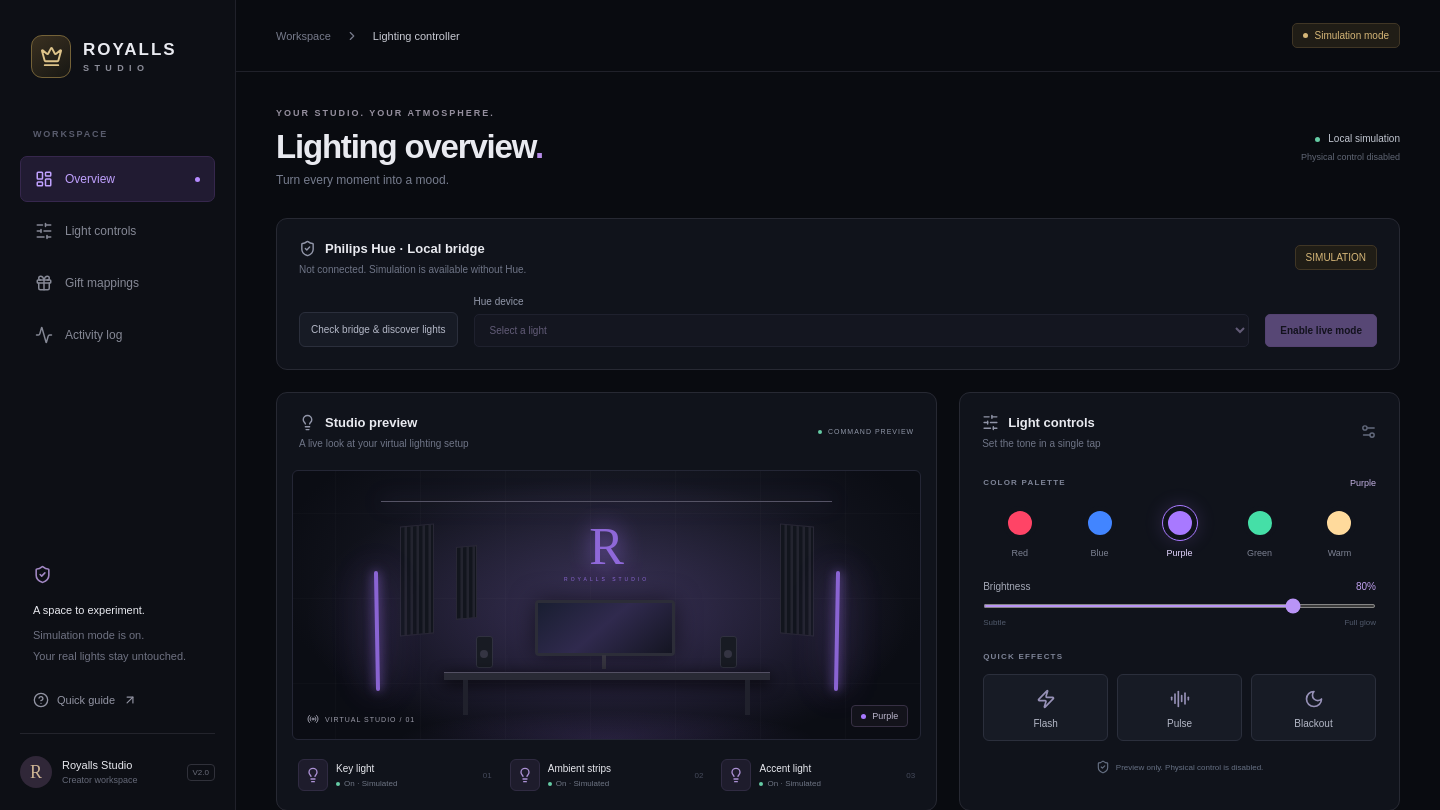
Hue mode safety (mock backend) › reports discovery failure without enabling physical control
Click the button "Check bridge & discover lights" at (378, 330), box [299,312,458,347]
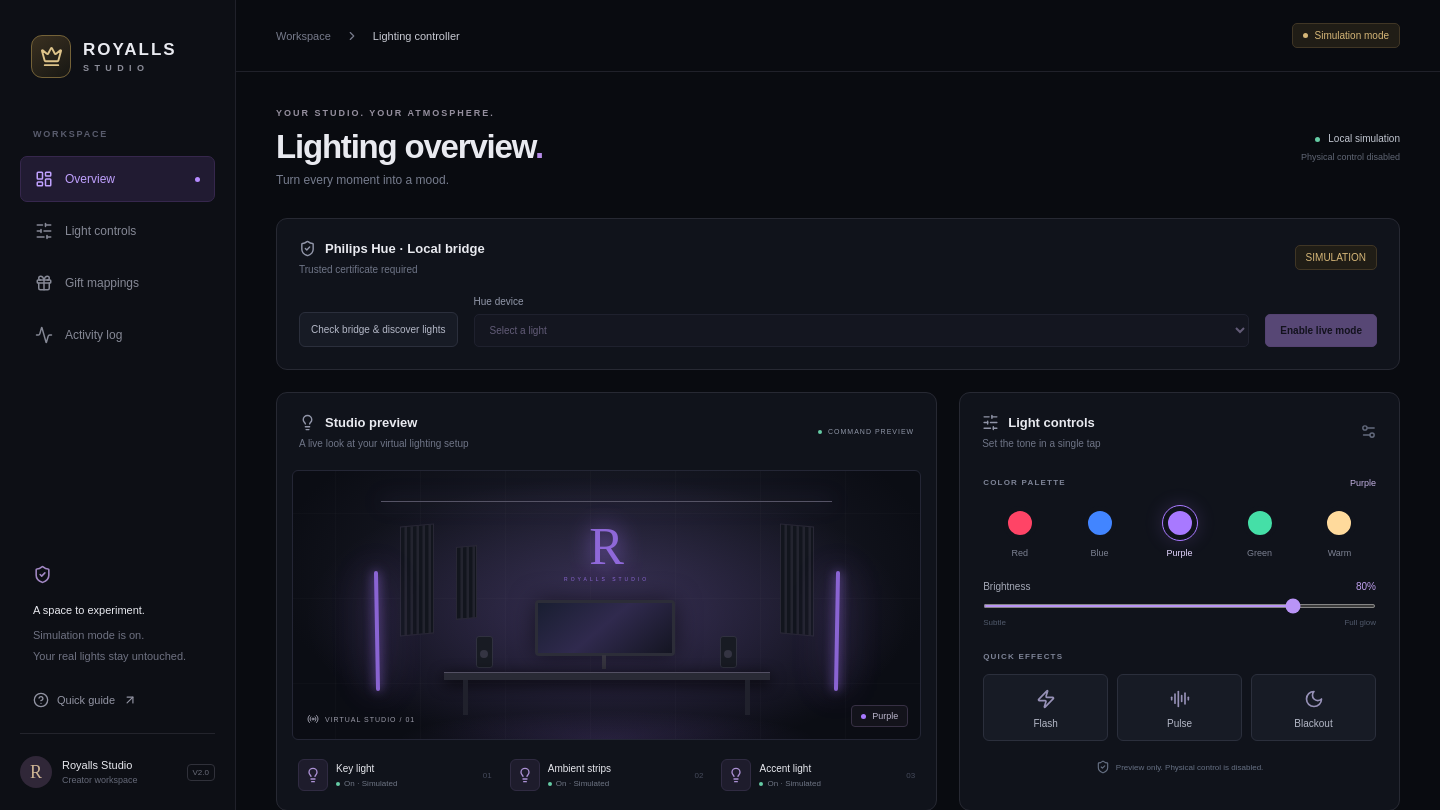
Expected: the button "Enable live mode" is disabled, [1265,314,1377,347]
Result: the message reads "Trusted certificate required" at [299,264,418,275]
